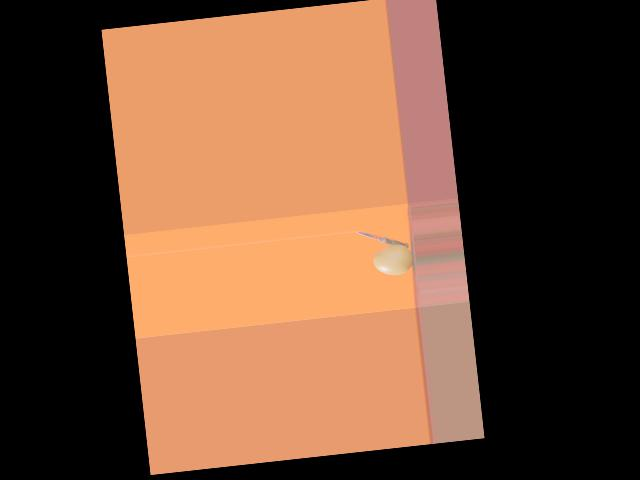egg: (372, 242, 414, 276)
